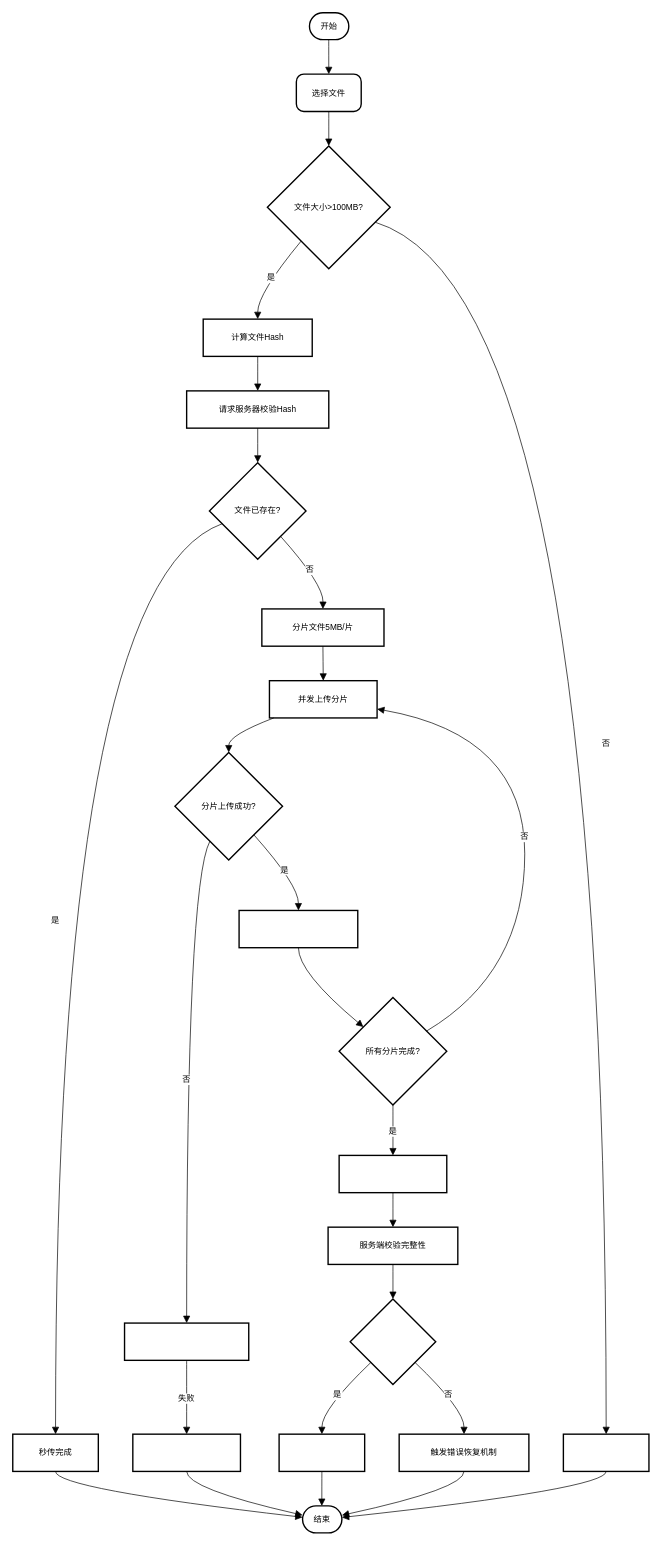
Image size: 661x1545. Some labels were removed from this diagram. Here are the shapes that lost their labels. From the top down, the centre of each, then its label:
the point at 298,928: 记录已上传分片
the point at 392,1173: 请求合并文件
the point at 186,1341: 重试机制最多3次
the point at 392,1341: 校验通过?
the point at 186,1452: 上传失败提示
the point at 321,1452: 上传成功
the point at 605,1452: 直接上传
